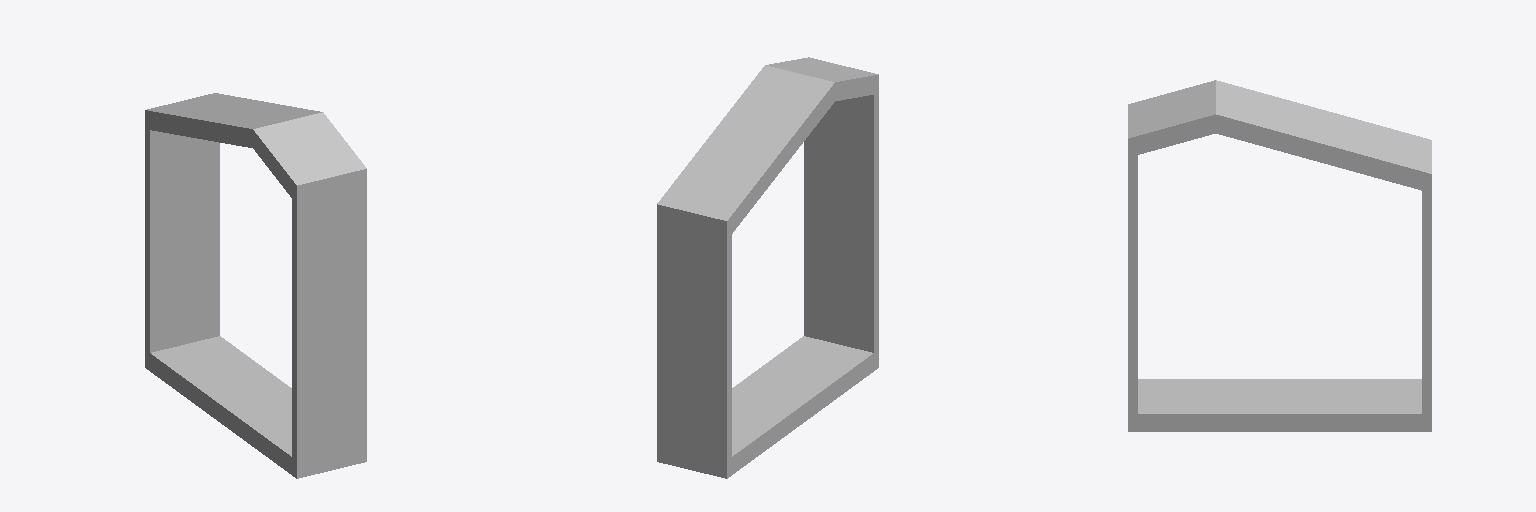
Rendered from 3D_4.3_SIM.obj.
The picture shows the model from 3 angles: view 1: azimuth 30°, elevation 25°; view 2: azimuth 150°, elevation 25°; view 3: azimuth 270°, elevation 25°; orthographic projection.
Parts seen in each view (by area): view 1: 3D_4.3_SIM; view 2: 3D_4.3_SIM; view 3: 3D_4.3_SIM.
Part boxes in pixels (x1,y1,x2,y2): 3D_4.3_SIM: (145, 93, 366, 478); 3D_4.3_SIM: (657, 57, 878, 478); 3D_4.3_SIM: (1128, 80, 1431, 431).
Bounding box in the file's own units: 0.8 × 3.46 × 3.